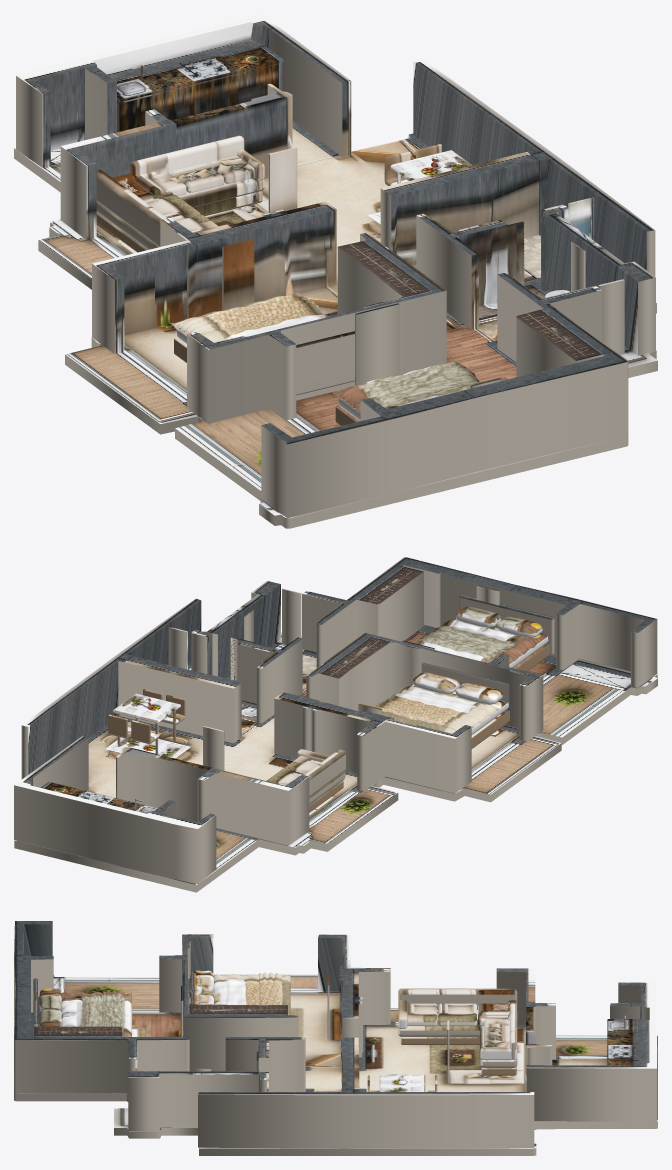
The model's file is p4-10-u10-2112-image-model.glb.
3 renders of one model, top to bottom at view 1: azimuth 30°, elevation 25°; view 2: azimuth 150°, elevation 25°; view 3: azimuth 270°, elevation 25°, orthographic. The views are drawn at different scales.
Parts seen in each view (by area): view 1: Partition walls, Apartment floor, Kitchen cabinets, Stone worktop, Upholstered headboard, Sofa back, Sofa back.001, Draped bed linen.001, Draped bed linen.003, Draped bed linen, Draped bed linen.002, Marble dining top (+5 smaller); view 2: Partition walls, Apartment floor, Draped bed linen, Draped bed linen.002, Upholstered headboard.001, Marble dining top, Draped bed linen.001, Draped bed linen.003, Sofa back, Upholstered headboard, Tailored pillow, Tailored pillow.001 (+4 smaller); view 3: Partition walls, Apartment floor, Sofa back, Draped bed linen.002, Draped bed linen, Stone worktop, Upholstered sofa frame, Seat cushion.001, Marble dining top, Draped bed linen.003, Draped bed linen.001, Seat cushion (+9 smaller).
Part boxes in pixels (x1,y1,x2,y2): Partition walls: (16, 14, 655, 518); Apartment floor: (14, 120, 657, 528); Kitchen cabinets: (117, 63, 282, 132); Stone worktop: (107, 39, 283, 102); Upholstered headboard: (296, 331, 354, 395); Sofa back: (96, 169, 167, 246); Sofa back.001: (130, 135, 244, 175); Draped bed linen.001: (177, 293, 319, 334); Draped bed linen.003: (338, 361, 475, 406); Draped bed linen: (171, 294, 328, 342); Draped bed linen.002: (333, 366, 479, 412); Marble dining top: (390, 150, 471, 180); Partition walls: (14, 557, 657, 883); Apartment floor: (14, 625, 657, 892); Draped bed linen: (382, 686, 498, 733); Draped bed linen.002: (417, 619, 538, 663); Upholstered headboard.001: (459, 594, 554, 654); Marble dining top: (112, 693, 180, 723); Draped bed linen.001: (374, 700, 474, 730); Draped bed linen.003: (416, 632, 517, 662); Sofa back: (304, 749, 345, 796); Upholstered headboard: (421, 662, 509, 708); Tailored pillow: (455, 682, 502, 704); Tailored pillow.001: (413, 672, 459, 694); Partition walls: (14, 921, 656, 1148); Apartment floor: (14, 974, 657, 1155); Sofa back: (398, 988, 517, 1009); Draped bed linen.002: (61, 992, 131, 1036); Draped bed linen: (213, 974, 290, 1015); Stone worktop: (607, 1019, 649, 1065); Upholstered sofa frame: (398, 1010, 517, 1036); Seat cushion.001: (438, 1003, 476, 1025); Marble dining top: (379, 1074, 425, 1091); Draped bed linen.003: (102, 990, 124, 1036); Draped bed linen.001: (258, 972, 282, 1005); Seat cushion: (407, 1003, 437, 1025).
Size of the model in its own units: 8.14 by 1.3 by 12.53.
Materials: 13 (3 with a texture image).
